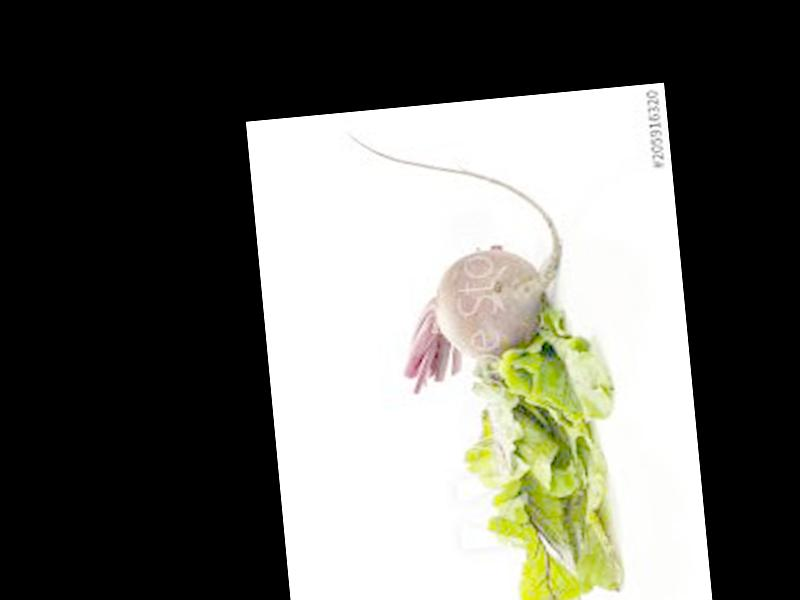Beet: (346, 111, 574, 402)
